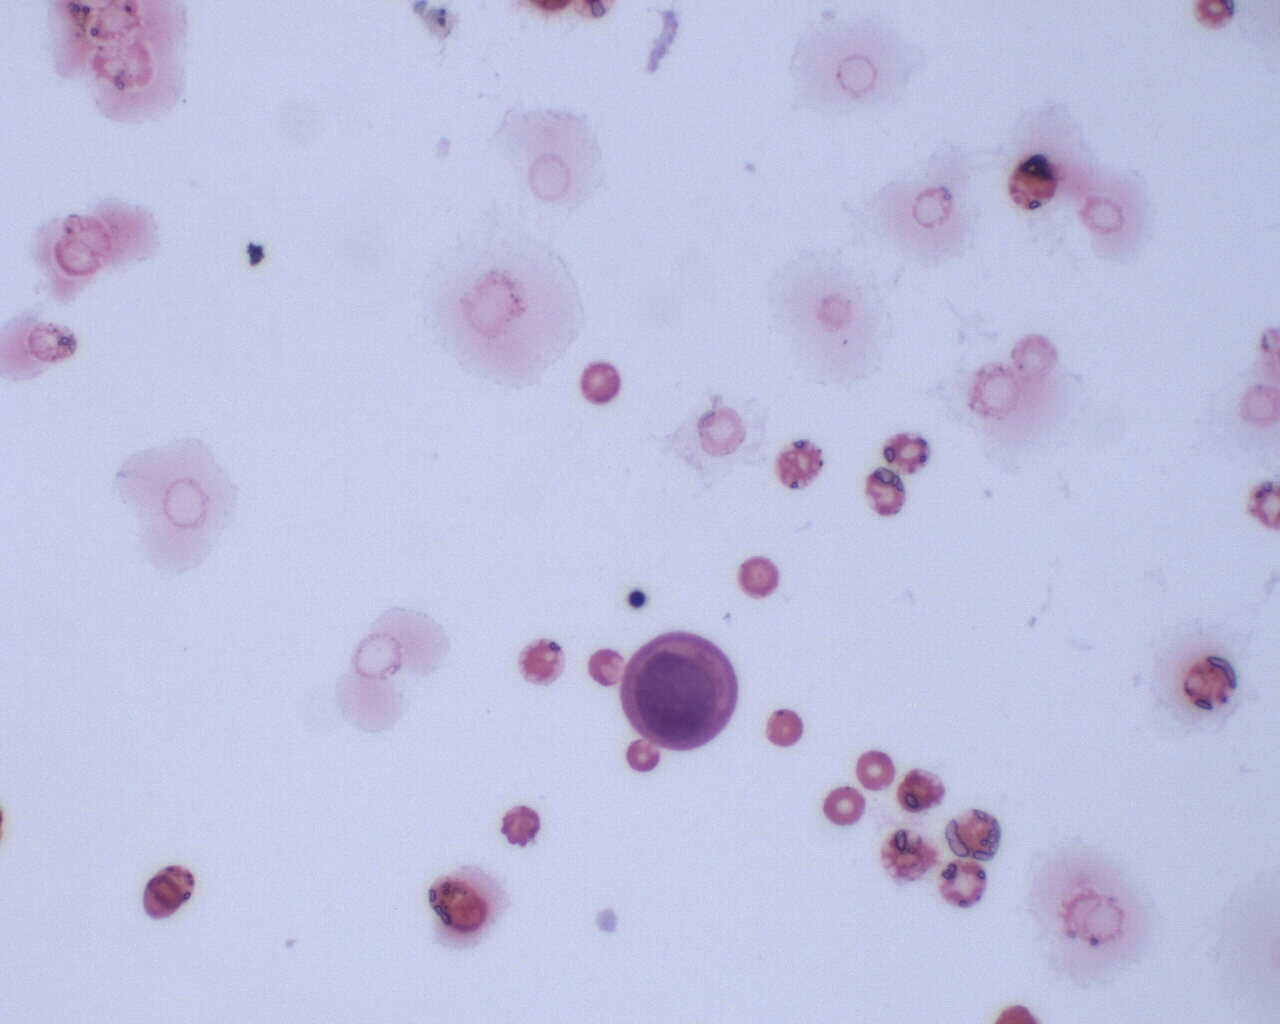ab: (610, 625, 738, 757)
